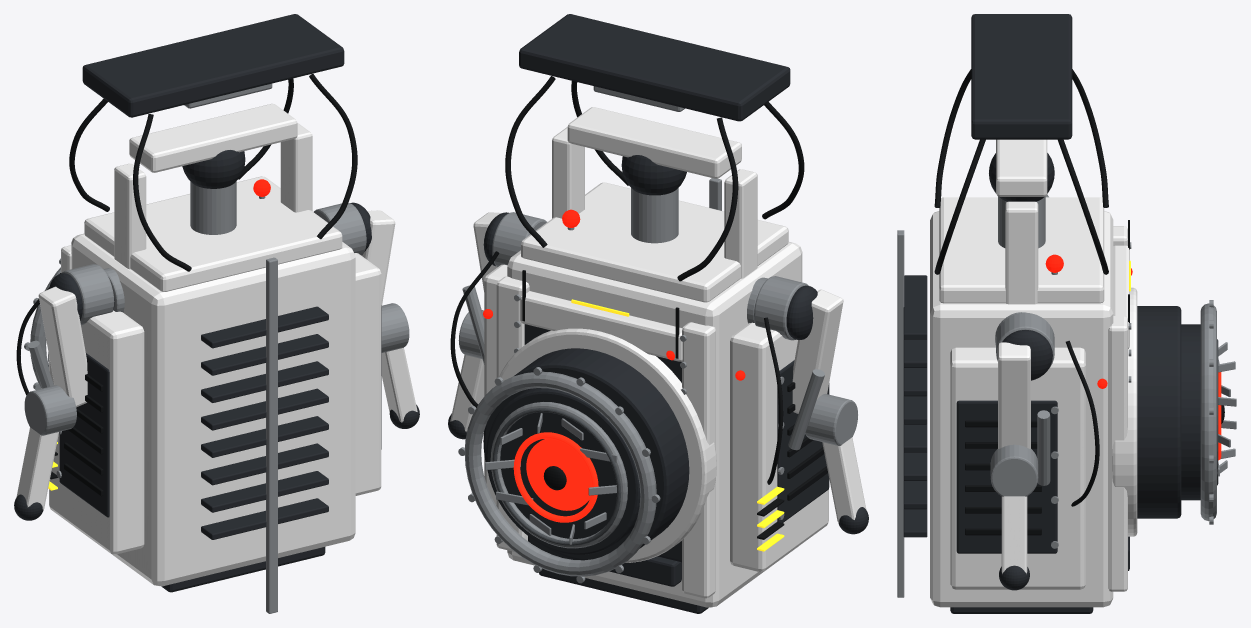
Rendered from moss-v2.glb.
3 views of the same model, side by side, from view 1: azimuth 30°, elevation 25°; view 2: azimuth 150°, elevation 25°; view 3: azimuth 270°, elevation 25° (orthographic). The views are drawn at different scales.
Parts seen in each view (by area): view 1: Body_Core, Ceiling_Rail, Body_Top_Cap, Side_Pod_-1, Side_Pod_1, Gimbal_Crossbar, Side_Inset_-1, Arm_Upper_-1, Yoke_Arm_-1, Yoke_Arm_1, Gimbal_Post, Arm_Fore_-1 (+26 smaller); view 2: Ceiling_Rail, Body_Core, Body_Top_Cap, Side_Pod_-1, Lens_Outer_Ring, Lens_Housing, Lens_Barrel, Lens_Cowl, Gimbal_Crossbar, Front_Pillar_-1, Front_Brow, Side_Inset_-1 (+29 smaller); view 3: Body_Core, Side_Pod_1, Ceiling_Rail, Body_Top_Cap, Lens_Housing, Side_Inset_1, Front_Pillar_1, Lens_Barrel, Lens_Outer_Ring, Yoke_Arm_1, Arm_Upper_1, Lens_Cowl (+27 smaller).
Part boxes in pixels (box(x1,y1,x2,y2)): Body_Core: box(71, 233, 355, 586); Ceiling_Rail: box(82, 14, 344, 117); Body_Top_Cap: box(84, 176, 342, 291); Side_Pod_-1: box(49, 310, 144, 554); Side_Pod_1: box(354, 253, 381, 495); Gimbal_Crossbar: box(129, 103, 297, 172); Side_Inset_-1: box(59, 353, 109, 517); Arm_Upper_-1: box(38, 286, 87, 407); Yoke_Arm_-1: box(114, 163, 146, 269); Yoke_Arm_1: box(280, 123, 312, 212); Gimbal_Post: box(190, 181, 236, 234); Arm_Fore_-1: box(16, 427, 58, 509); Ceiling_Rail: box(519, 14, 790, 121); Body_Core: box(507, 242, 802, 607); Body_Top_Cap: box(521, 182, 788, 302); Side_Pod_-1: box(730, 322, 828, 571); Lens_Outer_Ring: box(464, 371, 656, 576); Lens_Housing: box(483, 348, 689, 560); Lens_Barrel: box(486, 388, 640, 554); Lens_Cowl: box(495, 328, 716, 562); Gimbal_Crossbar: box(567, 107, 741, 178); Front_Pillar_-1: box(682, 322, 715, 598); Front_Brow: box(520, 291, 682, 361); Side_Inset_-1: box(777, 360, 829, 522); Body_Core: box(930, 211, 1113, 607); Side_Pod_1: box(950, 347, 1085, 589); Ceiling_Rail: box(971, 14, 1072, 139); Body_Top_Cap: box(939, 197, 1104, 303); Lens_Housing: box(1137, 306, 1181, 518); Side_Inset_1: box(956, 400, 1057, 553); Front_Pillar_1: box(1108, 316, 1127, 591); Lens_Barrel: box(1181, 324, 1200, 500); Lens_Outer_Ring: box(1200, 303, 1216, 521); Yoke_Arm_1: box(1005, 201, 1038, 304); Arm_Upper_1: box(998, 342, 1030, 448); Lens_Cowl: box(1112, 287, 1137, 536).
Size of the model in its own units: 2.61 by 3.18 by 1.85.
